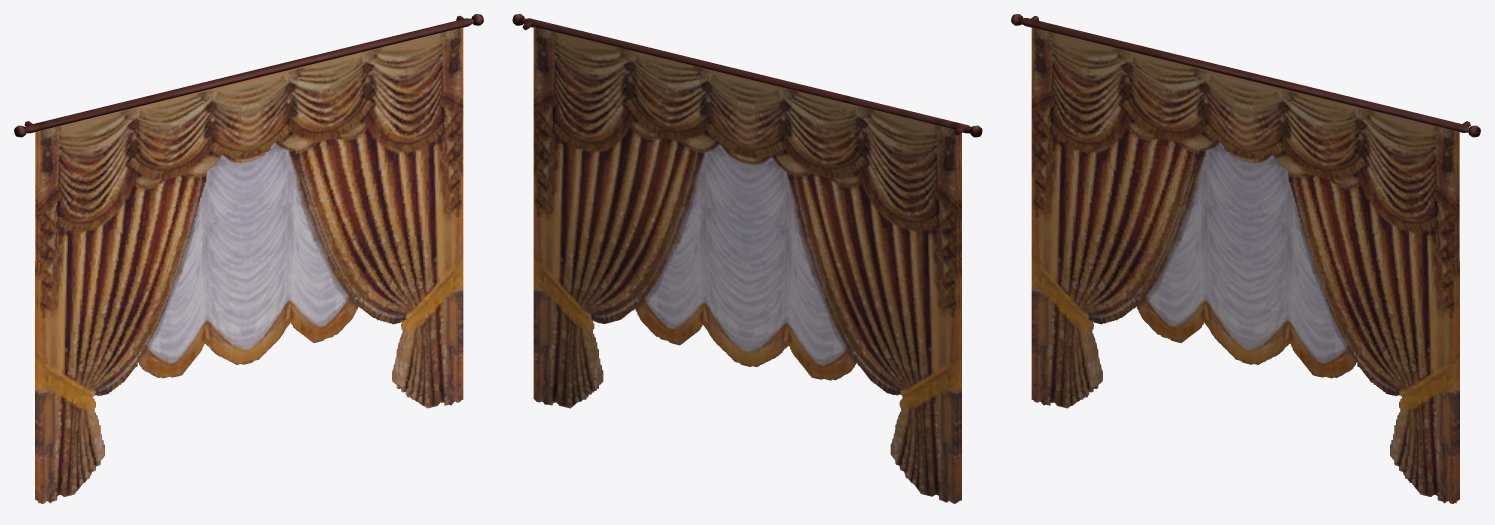
The model's file is furni_0201231.FBX.
3 renders of one model, left to right at view 1: azimuth 30°, elevation 25°; view 2: azimuth 150°, elevation 25°; view 3: azimuth 330°, elevation 25°, orthographic.
Visible parts, largest first — view 1: furni_0201231; view 2: furni_0201231; view 3: furni_0201231.
Boxes of the visible parts, x1=… form: furni_0201231: x1=14, y1=14, x2=483, y2=503; furni_0201231: x1=512, y1=14, x2=982, y2=503; furni_0201231: x1=1011, y1=14, x2=1480, y2=503.
Bounding box in the file's own units: 353 × 279 × 12.24.
2 materials, 2 textured.
